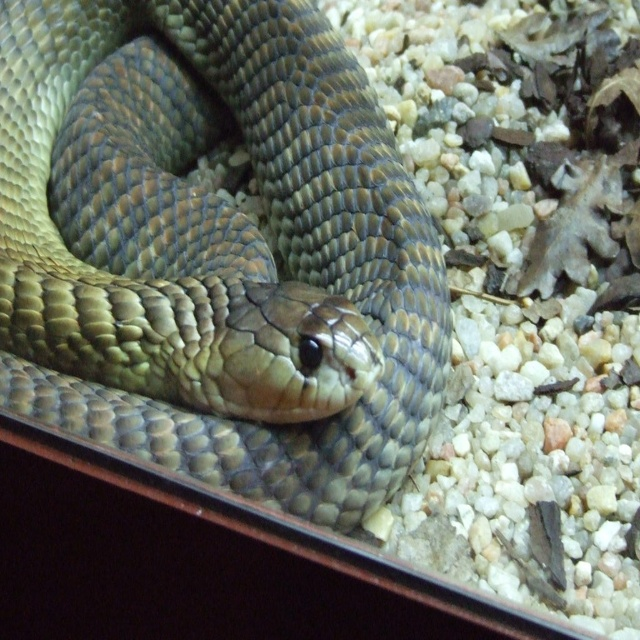Snake: (0, 0, 455, 535)
